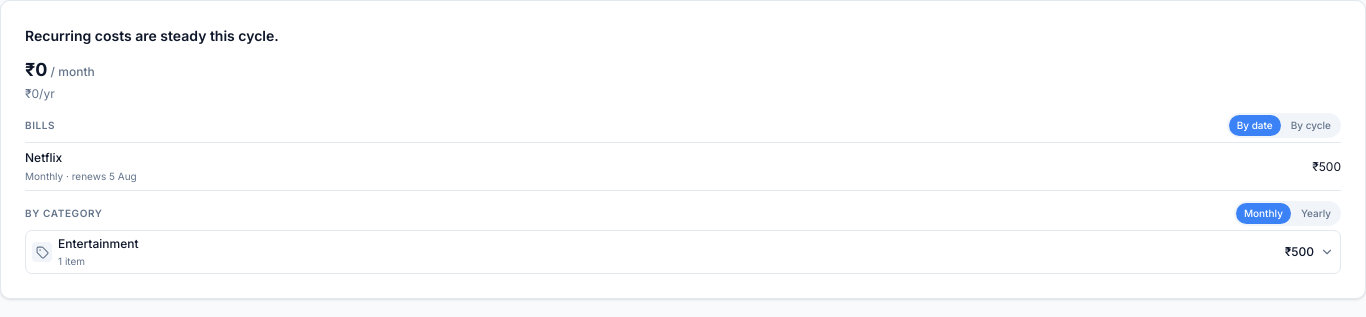
Scenario: SubscriptionAuditWidget › by category › switches category totals between monthly and yearly
The width and height of the screenshot is (1366, 317).
Expected: the text with class "subscription-audit-widget__cat-amt" reads "₹500", [1285,244,1314,259]
Click the button "Yearly".
click(1316, 214)  # box [1293,203,1339,224]
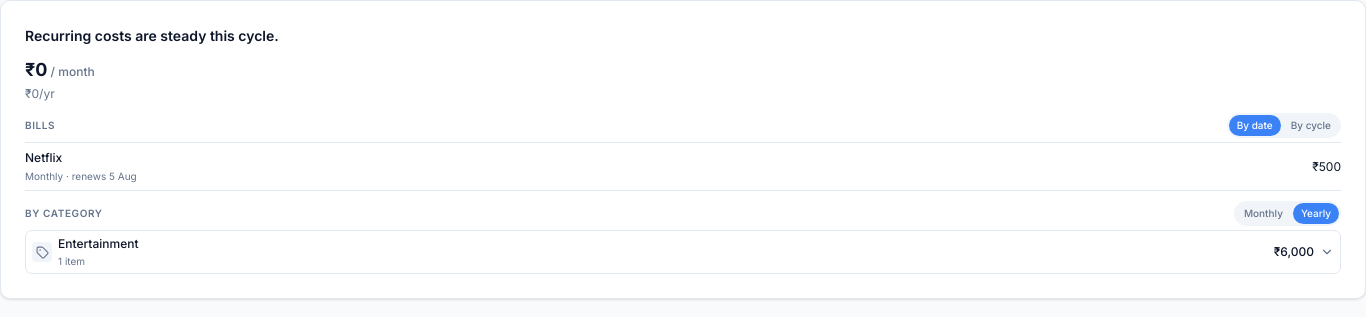
Expected: the text with class "subscription-audit-widget__cat-amt" reads "₹6,000", [1274,244,1314,259]
